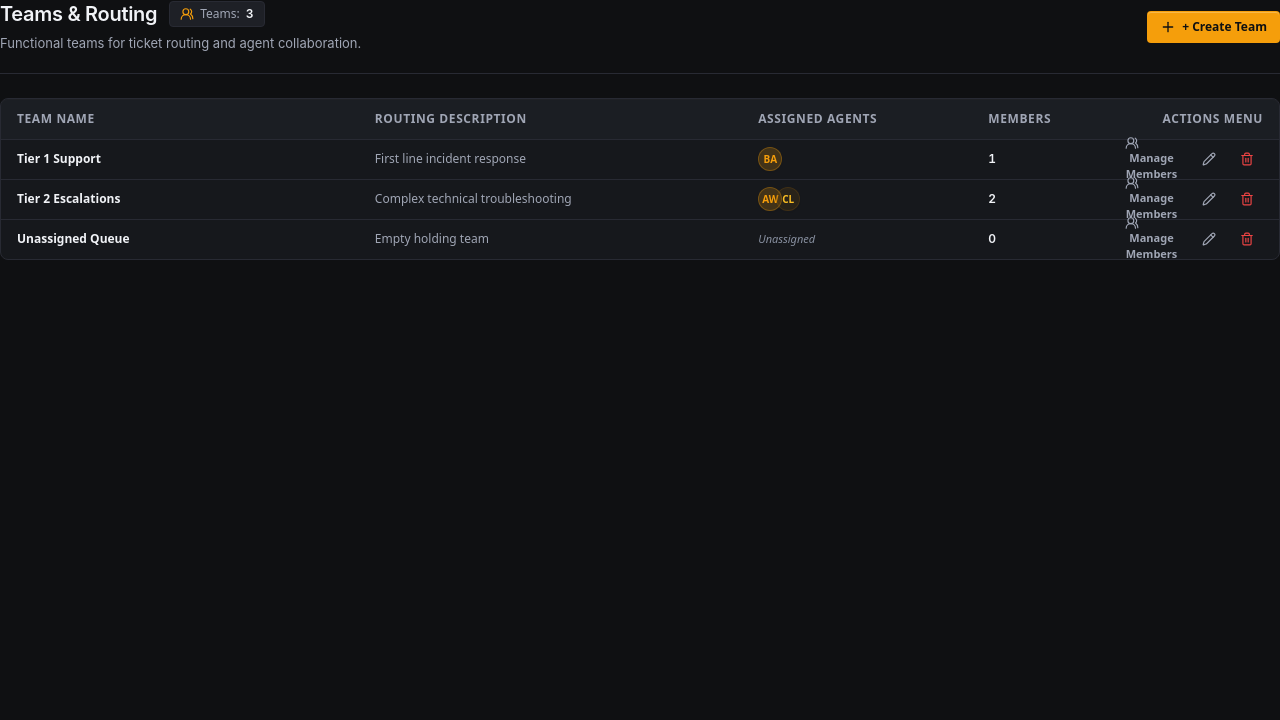
Test: TeamsView Component › opens "Delete Team" modal and deletes empty team with query cache invalidation
// Team 3 is empty (0 members)
Click the button with test id "delete-team-btn-3".
click(1247, 239)  # box [1231, 225, 1263, 253]
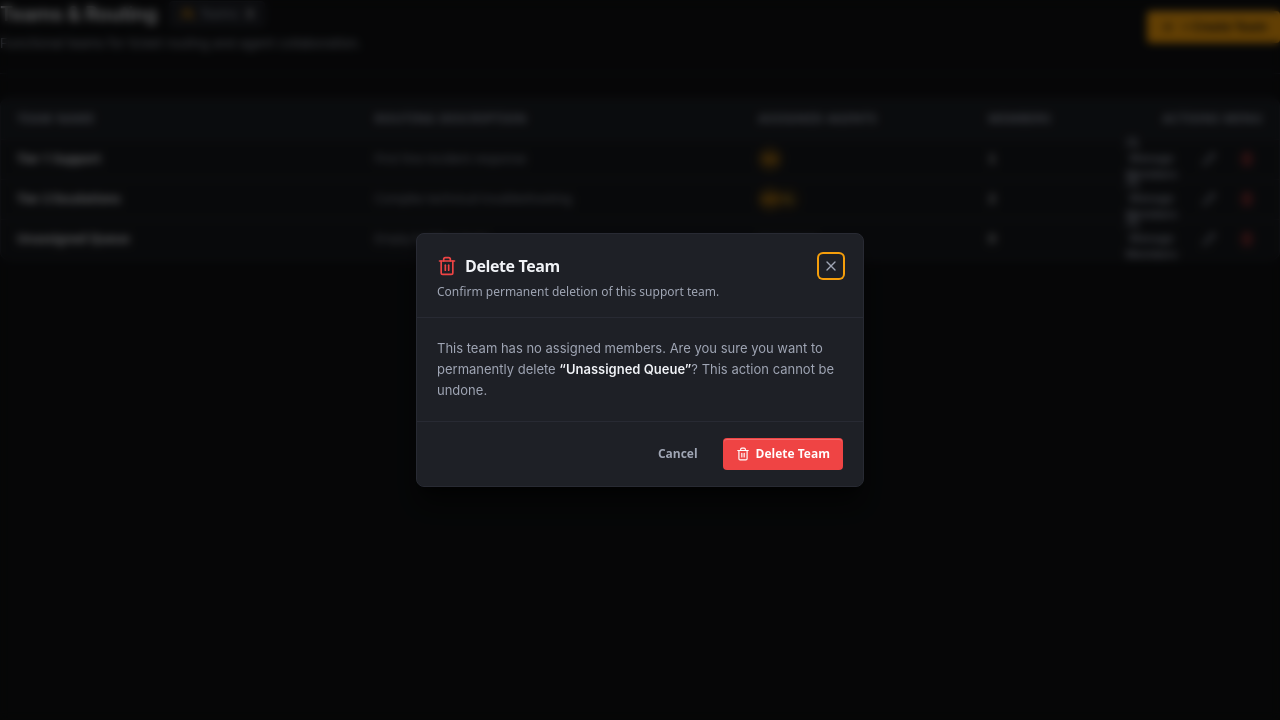
Expected: the dialog is shown, [416, 233, 864, 488]
Expected: the heading "Delete Team" is shown, [465, 254, 560, 278]
Expected: the element with test id "delete-team-confirmation-text" shows "unassigned queue", [566, 361, 685, 377]
Click the button with test id "confirm-delete-team-btn".
click(783, 454)  # box [723, 438, 843, 470]
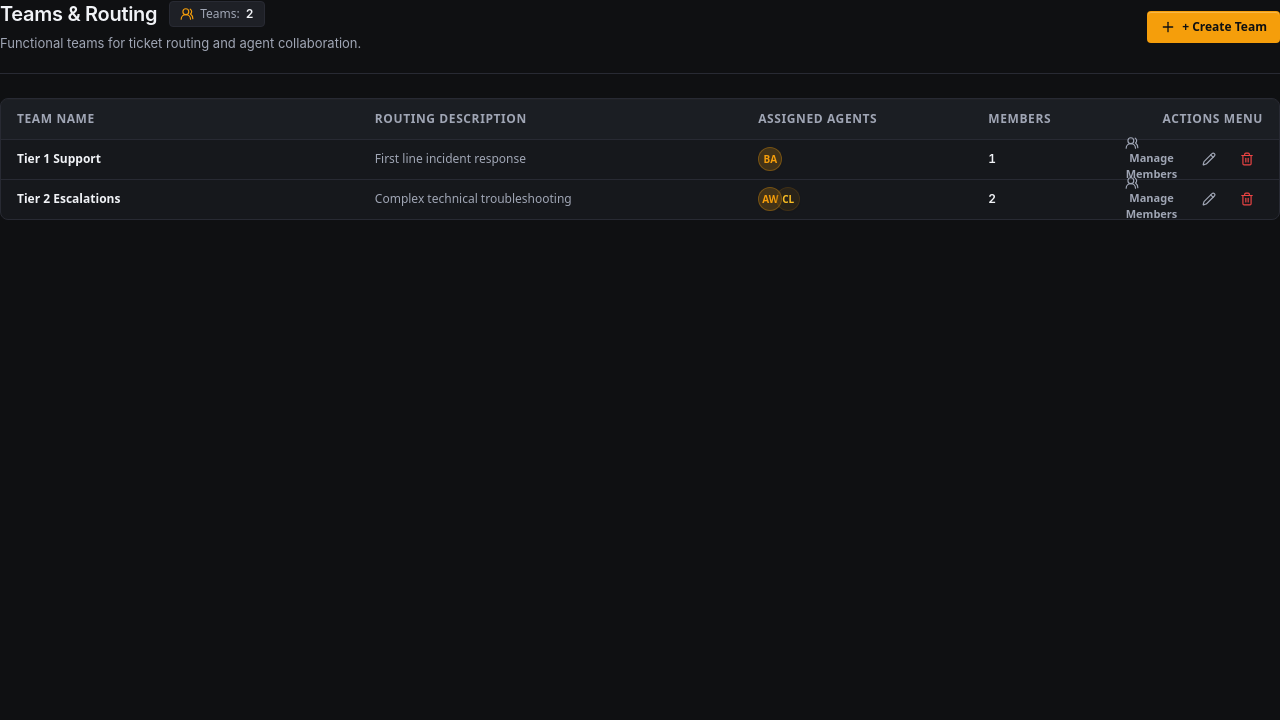
Expected: the dialog is gone
